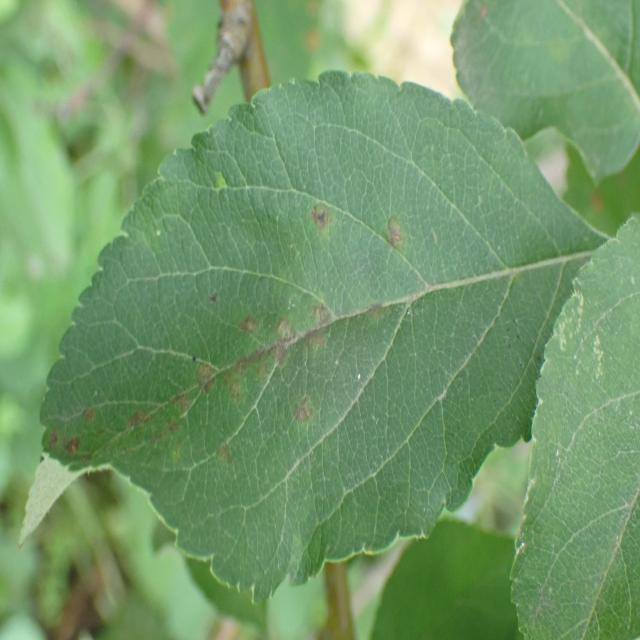scab: (34, 194, 433, 537)
